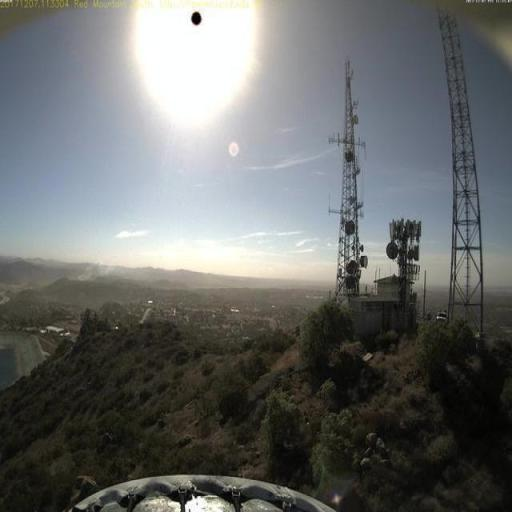smoke: (68, 246, 126, 282)
